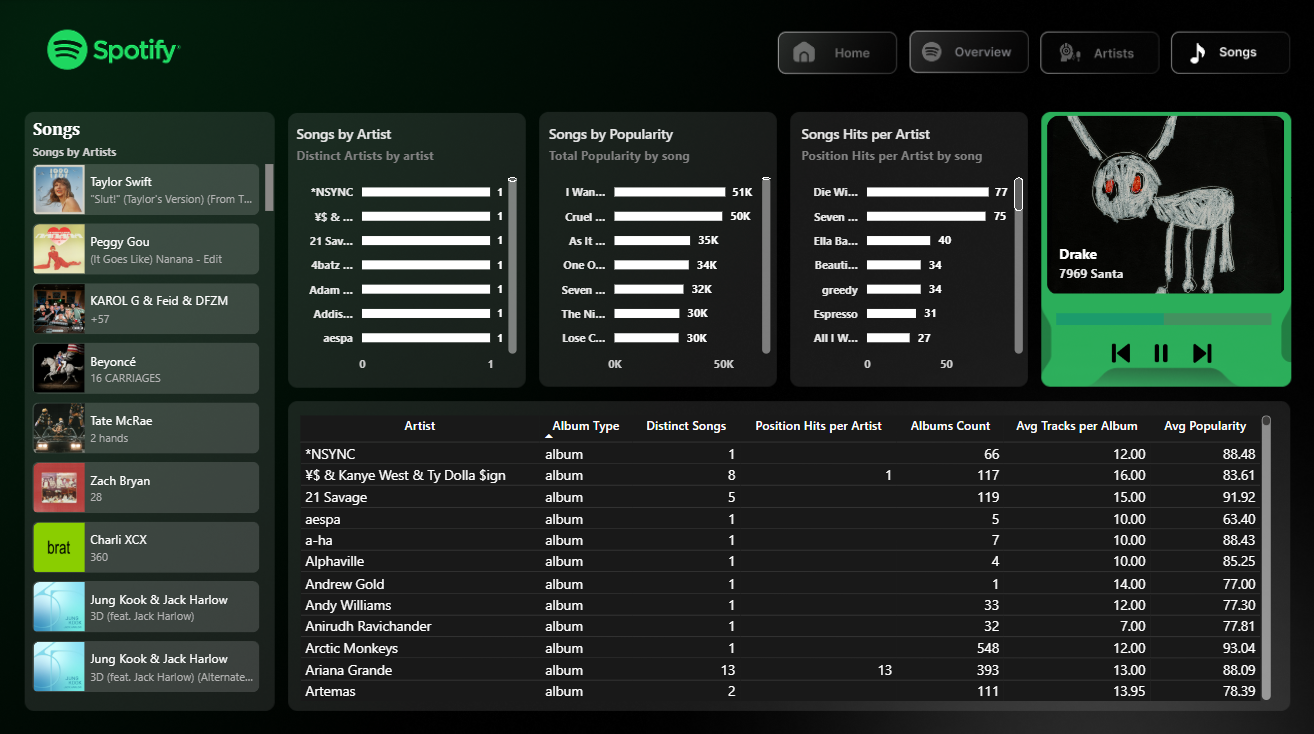

This screenshot's page, from the dashboard's own definition file:
{"tool":"powerbi","page":{"name":"Songs","canvas":[1280,720],"ordinal":3},"visuals":[{"type":"actionButton","box":[755.7,31.1,118.2,41],"z":0},{"type":"actionButton","box":[883.6,31.1,118.2,41],"z":1},{"type":"actionButton","box":[1011.5,31.1,118.2,41],"z":2},{"type":"actionButton","box":[1140.6,31.1,118.2,41],"z":3},{"type":"advancedSlicerVisual","title":"Songs","fields":{"Values":["Top-50-world.song"]},"box":[991.7,108.6,283.5,185.8],"z":4},{"type":"image","box":[1079.2,336.2,22,20],"z":5},{"type":"image","box":[1158.3,336.2,22,20],"z":6},{"type":"image","box":[1118.8,336.2,22,20],"z":7},{"type":"hundredPercentStackedBarChart","fields":{"Y":["_Measures.Avg Popularity","Avg(Top-50-world.popularity)"]},"box":[1023,278.6,219.4,61],"z":8},{"type":"advancedSlicerVisual","title":"Songs","fields":{"Values":["Top-50-world.song"]},"box":[26.5,117,244.9,571.9],"z":9},{"type":"tableEx","fields":{"Values":["Top-50-world.artist","Top-50-world.album_type","_Measures.Distinct Songs","_Measures.Position Hits per Artist","_Measures.Albums Count","_Measures.Avg Tracks per Album","_Measures.Avg Popularity"]},"box":[285.7,401.2,955.6,286.9],"z":13},{"type":"clusteredBarChart","title":"Songs by Artist","fields":{"Y":["_Measures.Distinct Artists"],"Category":["Top-50-world.artist"]},"box":[283.5,123.1,224.4,249.7],"z":14},{"type":"clusteredBarChart","title":"Songs by Popularity","fields":{"Y":["Sum(Top-50-world.popularity)"],"Category":["Top-50-world.song"]},"box":[528.4,123.1,225.6,249.7],"z":15},{"type":"clusteredBarChart","title":"Songs Hits per Artist","fields":{"Category":["Top-50-world.song"],"Y":["_Measures.Position Hits per Artist"]},"box":[774.5,123.1,225.6,249.7],"z":16},{"type":"image","box":[222.5,116.7,37.7,25.5],"z":17},{"type":"image","box":[470.5,126.4,37.7,25.5],"z":18},{"type":"image","box":[716.1,126.4,37.7,25.5],"z":19},{"type":"image","box":[962.9,126.4,37.7,25.5],"z":20}]}

Visuals, with their boxes in screenshot pixels (x1, y1, x2, y2), scaled from the page's 1280x720 canvas onto the 1314x734 screenshot:
actionButton: l=776, t=32, r=897, b=74
actionButton: l=907, t=32, r=1028, b=74
actionButton: l=1038, t=32, r=1160, b=74
actionButton: l=1171, t=32, r=1292, b=74
"Songs" advancedSlicerVisual: l=1018, t=111, r=1309, b=300
image: l=1108, t=343, r=1130, b=363
image: l=1189, t=343, r=1212, b=363
image: l=1149, t=343, r=1171, b=363
hundredPercentStackedBarChart - _Measures.Avg Popularity x Avg(Top-50-world.popularity): l=1050, t=284, r=1275, b=346
"Songs" advancedSlicerVisual: l=27, t=119, r=279, b=702
tableEx - Top-50-world.artist x Top-50-world.album_type: l=293, t=409, r=1274, b=701
"Songs by Artist" clusteredBarChart: l=291, t=125, r=521, b=380
"Songs by Popularity" clusteredBarChart: l=542, t=125, r=774, b=380
"Songs Hits per Artist" clusteredBarChart: l=795, t=125, r=1027, b=380
image: l=228, t=119, r=267, b=145
image: l=483, t=129, r=522, b=155
image: l=735, t=129, r=774, b=155
image: l=988, t=129, r=1027, b=155
